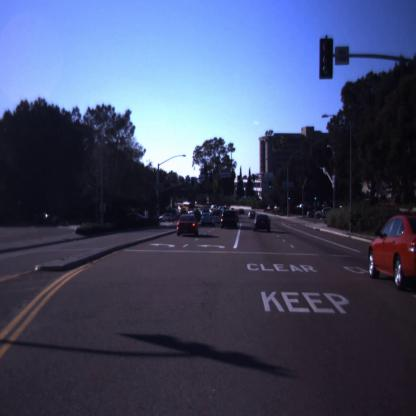trafficlight: (318, 31, 338, 85)
